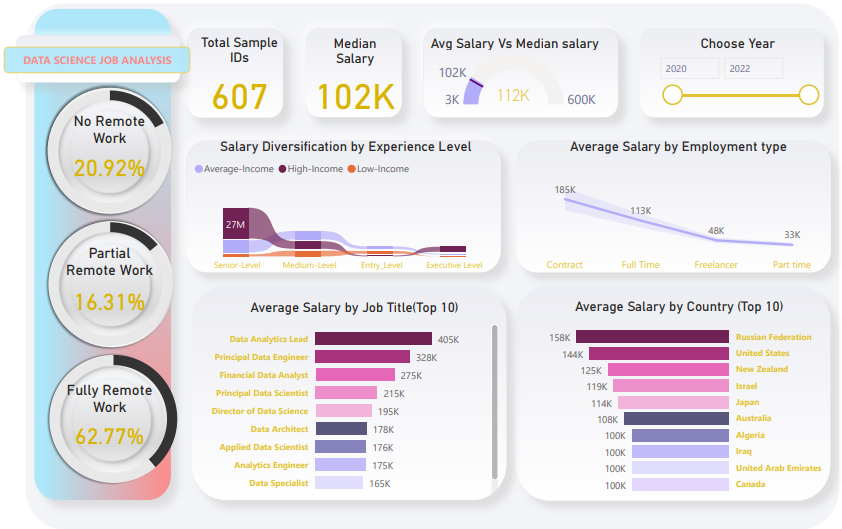

The dashboard page shown, as its layout file describes it:
{"tool":"powerbi","page":{"name":"Page 1","canvas":[1200,900],"ordinal":0},"visuals":[{"type":"card","title":"Total Sample IDs","fields":{"Values":["Count(ds_salaries.Column1)"]},"box":[370,187.1,124.3,107.1],"z":0},{"type":"card","title":"Median Salary","fields":{"Values":["Median(ds_salaries.salary_in_usd)"]},"box":[520,187.5,112.5,106.2],"z":1000},{"type":"card","title":"No Remote Work","fields":{"Values":["ds_salaries.0_ratio_count_percentage"]},"box":[210,285,118.8,95],"z":2000},{"type":"donutChart","fields":{"Y":["ds_salaries.0_ratio_count","ds_salaries.Total_observations"]},"box":[168.6,214.3,201.4,240],"z":3000},{"type":"card","title":"Partial Remote Work","fields":{"Values":["ds_salaries.50_ratio_count_percentage"]},"box":[210,450,118.8,100],"z":4000},{"type":"donutChart","fields":{"Y":["ds_salaries.100_ratio_count","ds_salaries.Total_observations"]},"box":[168.8,550,210,236.2],"z":5000},{"type":"donutChart","fields":{"Y":["ds_salaries.50_ratio_count","ds_salaries.Total_observations"]},"box":[118.8,397.5,302.5,203.8],"z":6000},{"type":"card","title":"Fully Remote Work","fields":{"Values":["ds_salaries.100_ratio_count_percentage"]},"box":[201.2,621.2,136.2,93.8],"z":7000},{"type":"gauge","title":"Avg Salary Vs Median salary","fields":{"TargetValue":["ds_salaries.Median salary"],"Y":["ds_salaries.Average Salary"]},"box":[666.2,187.5,228.8,97.5],"z":8000},{"type":"slicer","title":"Choose Year","fields":{"Values":["ds_salaries.work_year"]},"box":[945,187.5,220,97.5],"z":9000},{"type":"lineChart","title":"Average Salary by Employment type","fields":{"Y":["ds_salaries.Average Salary"],"Category":["ds_salaries.Custom_emp_type"]},"box":[795.7,317.1,370,175.7],"z":10000},{"type":"barChart","title":"Average Salary by Job Title(Top 10) ","fields":{"Y":["ds_salaries.Average Salary"],"Category":["ds_salaries.job_title"]},"box":[391.2,517.5,368.8,253.8],"z":11000},{"type":"barChart","title":"Average Salary by Country (Top 10)","fields":{"Y":["ds_salaries.Average Salary"],"Category":["data_csv.Name"]},"box":[797.1,517.1,368.6,254.3],"z":12000},{"type":"textbox","box":[137.1,202.9,232.9,32.9],"z":13000},{"type":"ribbonChart","title":"Salary Diversification by Experience Level","fields":{"Category":["ds_salaries.Custom_exp_level"],"Series":["ds_salaries.Income group"],"Y":["Sum(ds_salaries.salary_in_usd)"]},"box":[370,317.1,390,175.7],"z":14000}]}

Visuals, with their boxes on the page's 1200x900 design canvas (x1, y1, x2, y2). These are canvas units, not pixel positions in the 842x529 screenshot, which may show the page scaled, cropped or inside an application window:
"Total Sample IDs" card: l=370, t=187, r=494, b=294
"Median Salary" card: l=520, t=188, r=632, b=294
"No Remote Work" card: l=210, t=285, r=329, b=380
donutChart - ds_salaries.0_ratio_count x ds_salaries.Total_observations: l=169, t=214, r=370, b=454
"Partial Remote Work" card: l=210, t=450, r=329, b=550
donutChart - ds_salaries.100_ratio_count x ds_salaries.Total_observations: l=169, t=550, r=379, b=786
donutChart - ds_salaries.50_ratio_count x ds_salaries.Total_observations: l=119, t=398, r=421, b=601
"Fully Remote Work" card: l=201, t=621, r=337, b=715
"Avg Salary Vs Median salary" gauge: l=666, t=188, r=895, b=285
"Choose Year" slicer: l=945, t=188, r=1165, b=285
"Average Salary by Employment type" lineChart: l=796, t=317, r=1166, b=493
"Average Salary by Job Title(Top 10) " barChart: l=391, t=518, r=760, b=771
"Average Salary by Country (Top 10)" barChart: l=797, t=517, r=1166, b=771
textbox: l=137, t=203, r=370, b=236
"Salary Diversification by Experience Level" ribbonChart: l=370, t=317, r=760, b=493
